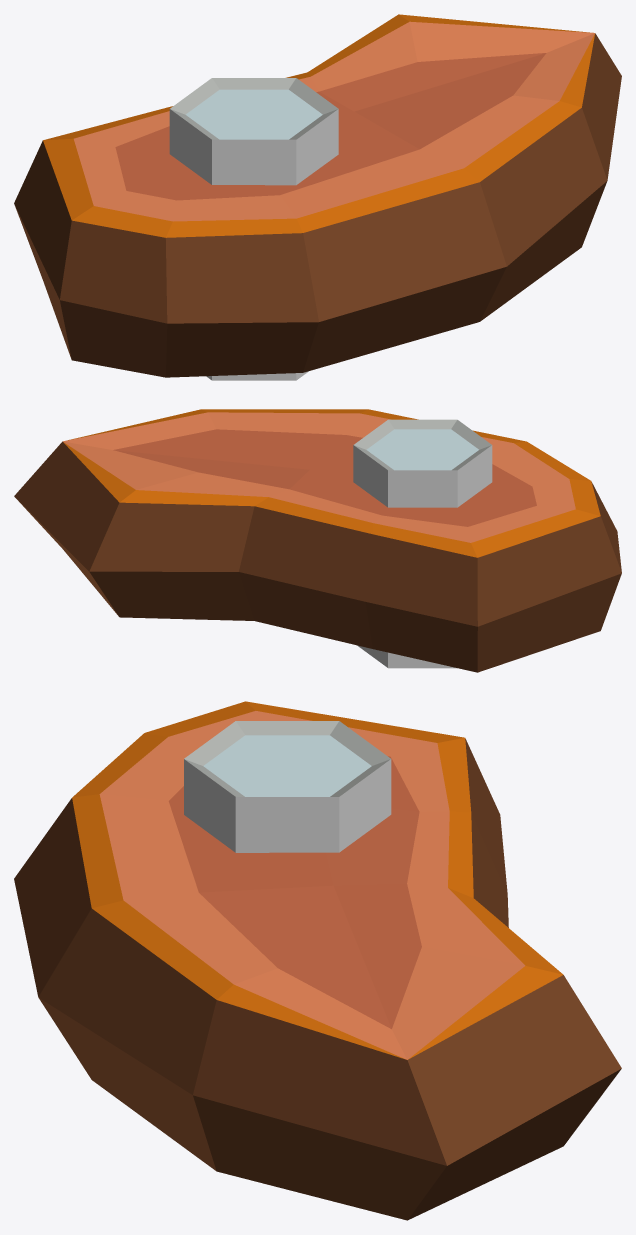
Rendered from Cooked Meat.fbx.
3 views of the same model, one above another, from view 1: azimuth 30°, elevation 25°; view 2: azimuth 150°, elevation 25°; view 3: azimuth 270°, elevation 25° (orthographic). The views are drawn at different scales.
Parts seen in each view (by area): view 1: Cooked Meat; view 2: Cooked Meat; view 3: Cooked Meat.
Boxes of the visible parts, x1=… form: Cooked Meat: x1=14, y1=14, x2=621, y2=380; Cooked Meat: x1=14, y1=409, x2=621, y2=672; Cooked Meat: x1=14, y1=701, x2=621, y2=1220.
Size of the model in its own units: 24.1 by 8.52 by 15.88.
